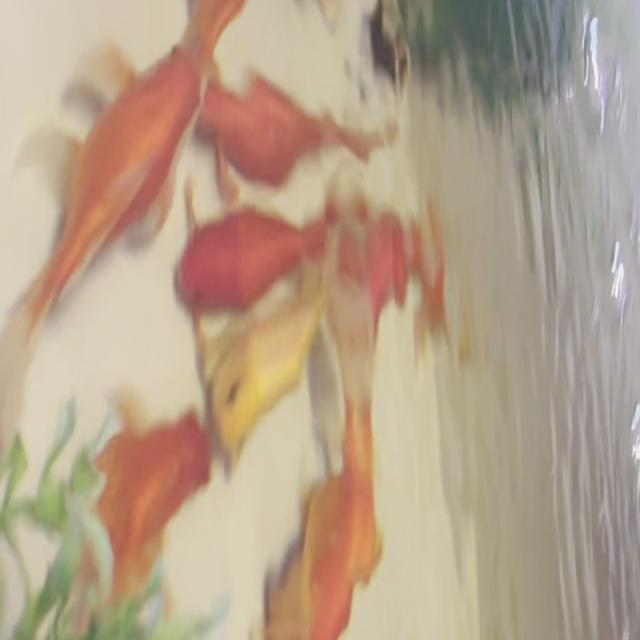fish: (0, 0, 203, 439), (81, 400, 213, 604), (190, 67, 391, 195), (197, 274, 324, 469), (275, 416, 383, 640), (176, 200, 332, 313), (349, 199, 447, 344), (182, 0, 294, 83)
